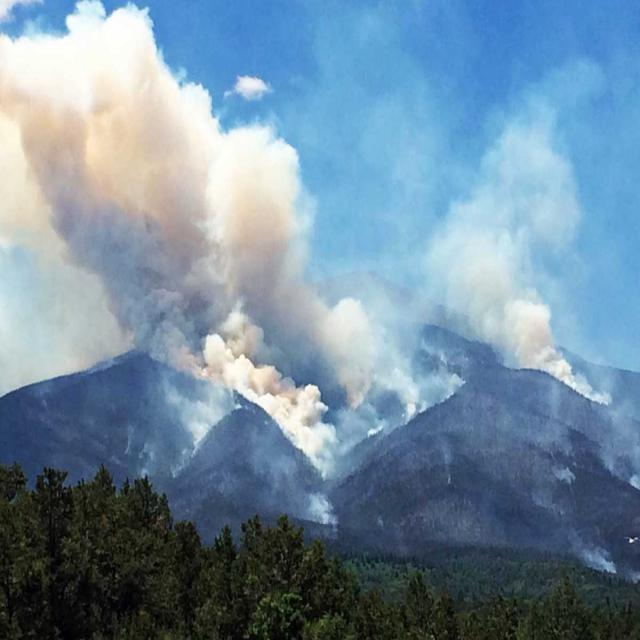Smoke: (38, 36, 334, 462), (500, 297, 590, 397)
